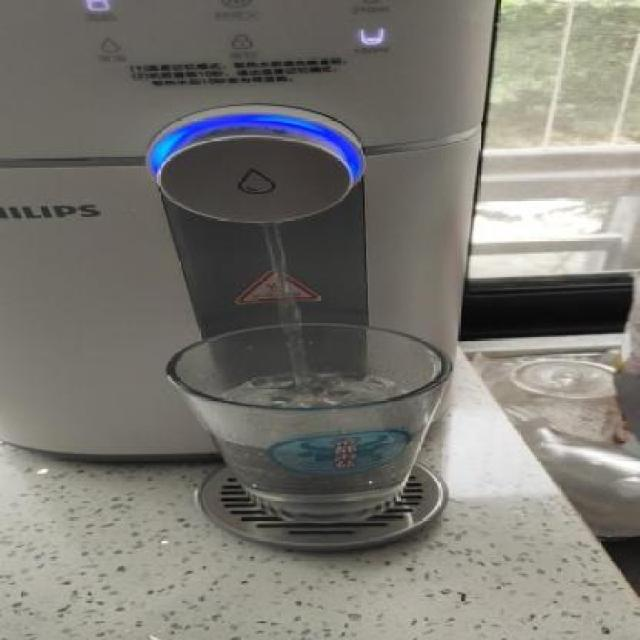cooler: (0, 0, 514, 468)
